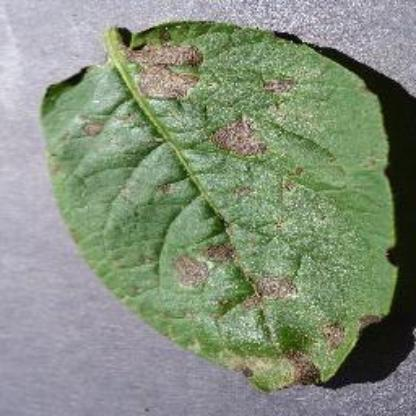Early-Blight: (40, 19, 406, 395)
